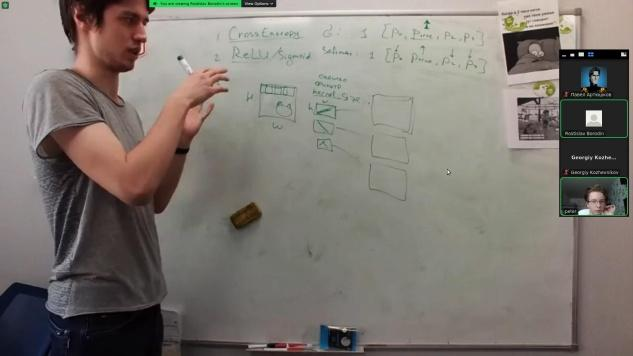Whiteboard: (119, 5, 584, 350)
